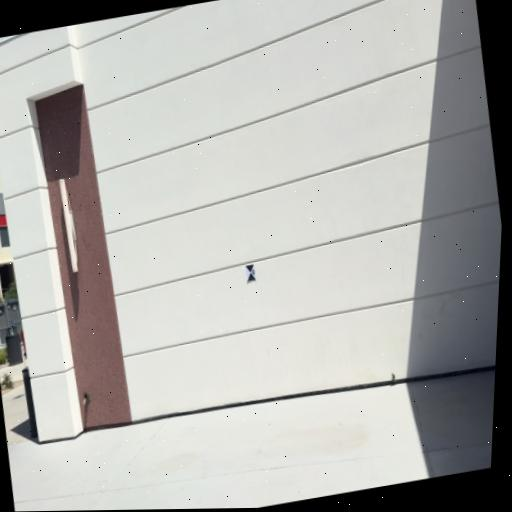target0: (243, 263, 256, 282)
